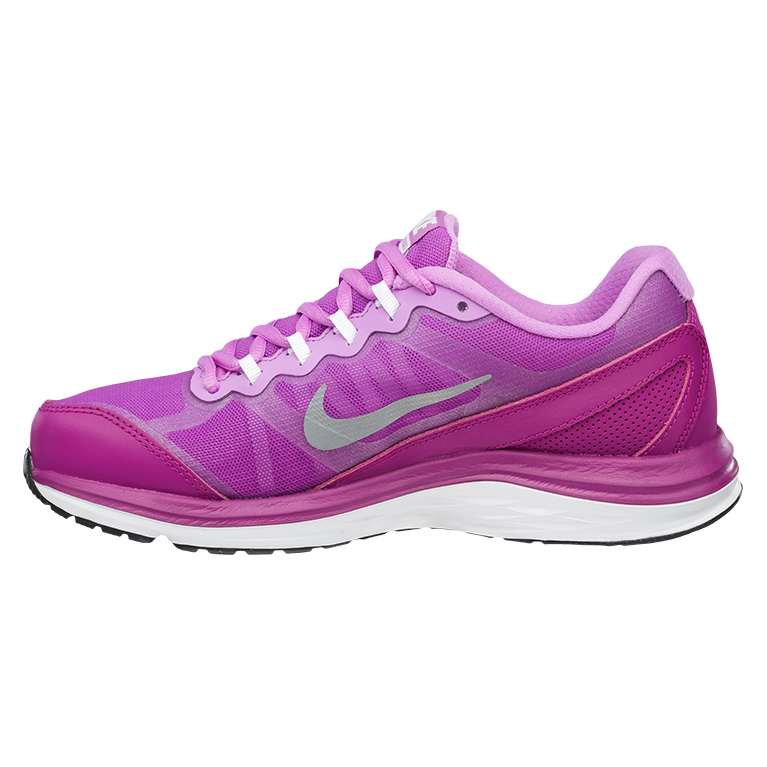Nike: (302, 367, 499, 454)
